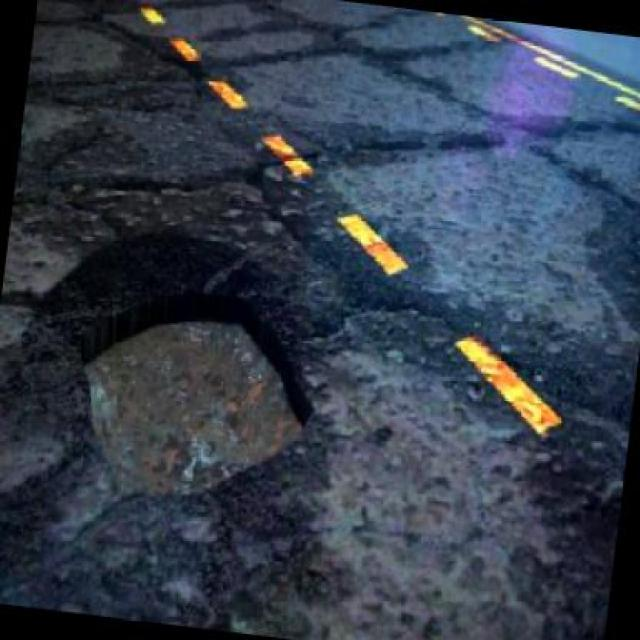pothole1: (61, 274, 330, 520)
